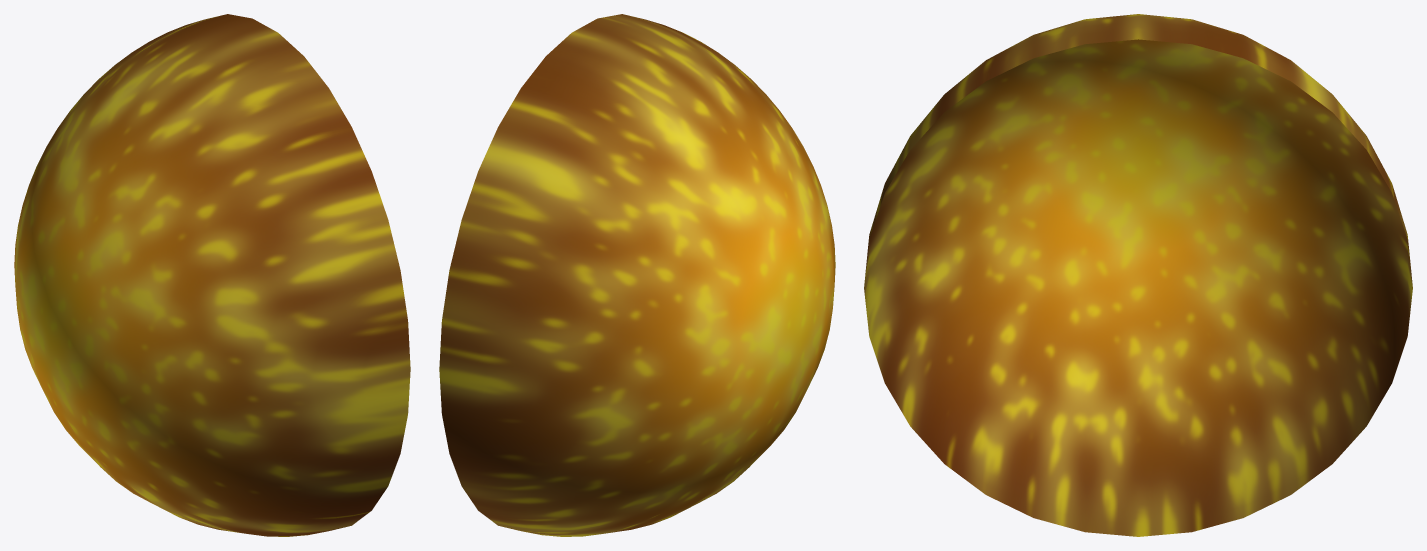
The model's file is EnergyShield.FBX.
3 renders of one model, left to right at view 1: azimuth 30°, elevation 25°; view 2: azimuth 150°, elevation 25°; view 3: azimuth 270°, elevation 25°, orthographic. The views are drawn at different scales.
Parts seen in each view (by area): view 1: Sphere01; view 2: Sphere01; view 3: Sphere01.
Part boxes in pixels (x1,y1,x2,y2): Sphere01: [14, 14, 410, 536]; Sphere01: [439, 14, 835, 536]; Sphere01: [864, 14, 1412, 536].
Size of the model in its own units: 1 by 2 by 2.
1 material, 1 textured.
